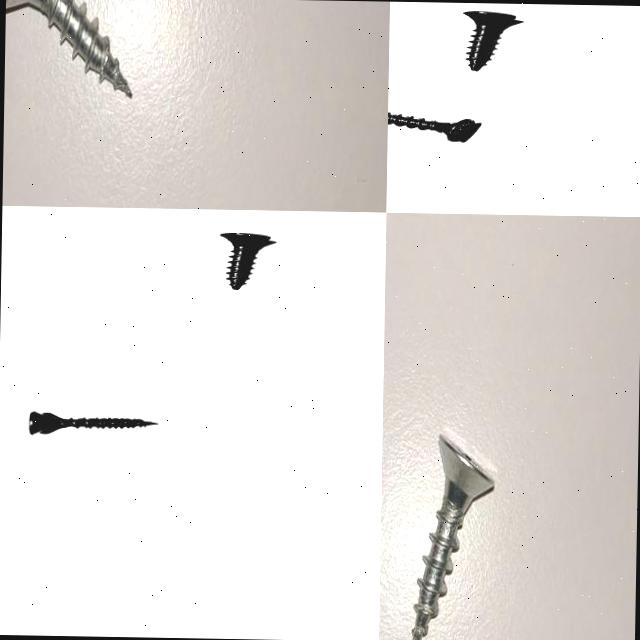Screw: (412, 433, 494, 640), (5, 0, 131, 96), (462, 10, 522, 71), (218, 232, 273, 289), (26, 412, 155, 435), (387, 112, 480, 142)
